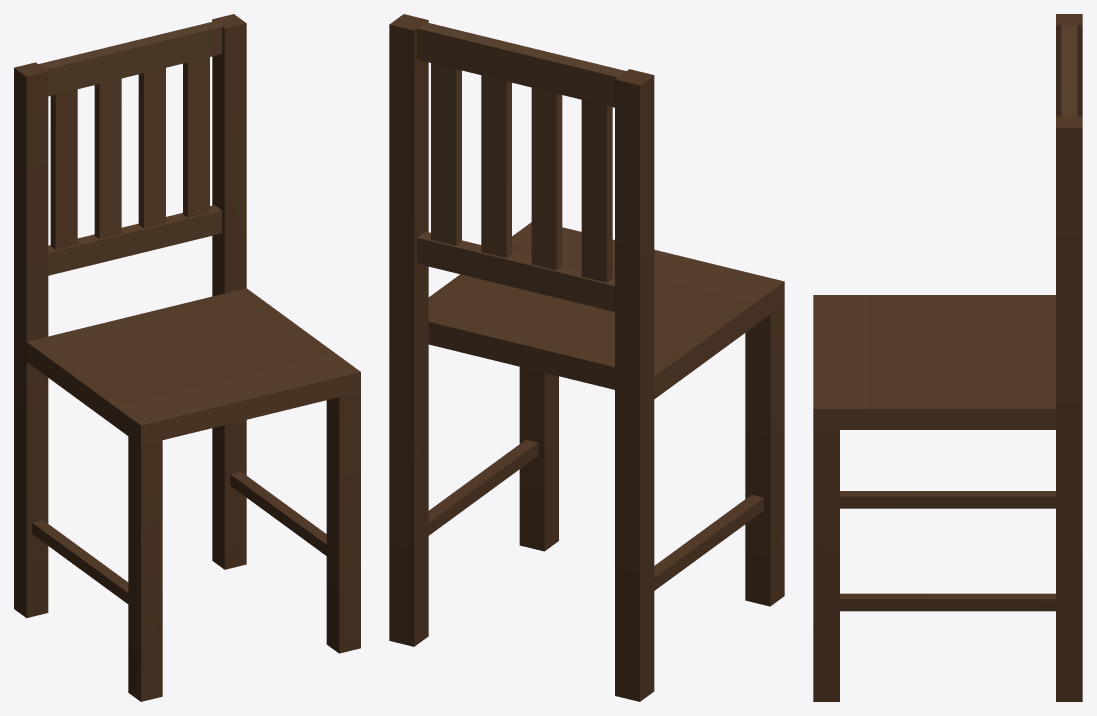
Rendered from seat.chair.walnut.glb.
3 renders of one model, left to right at view 1: azimuth 30°, elevation 25°; view 2: azimuth 150°, elevation 25°; view 3: azimuth 270°, elevation 25°, orthographic. The views are drawn at different scales.
Parts seen in each view (by area): view 1: seat_chair_walnut; view 2: seat_chair_walnut; view 3: seat_chair_walnut.
Boxes of the visible parts, <box> form: seat_chair_walnut: <box>14,14,360,701</box>; seat_chair_walnut: <box>389,14,784,701</box>; seat_chair_walnut: <box>813,14,1082,701</box>.
Size of what is drawn, in the model's own units: 0.404 by 0.95 by 0.404.
